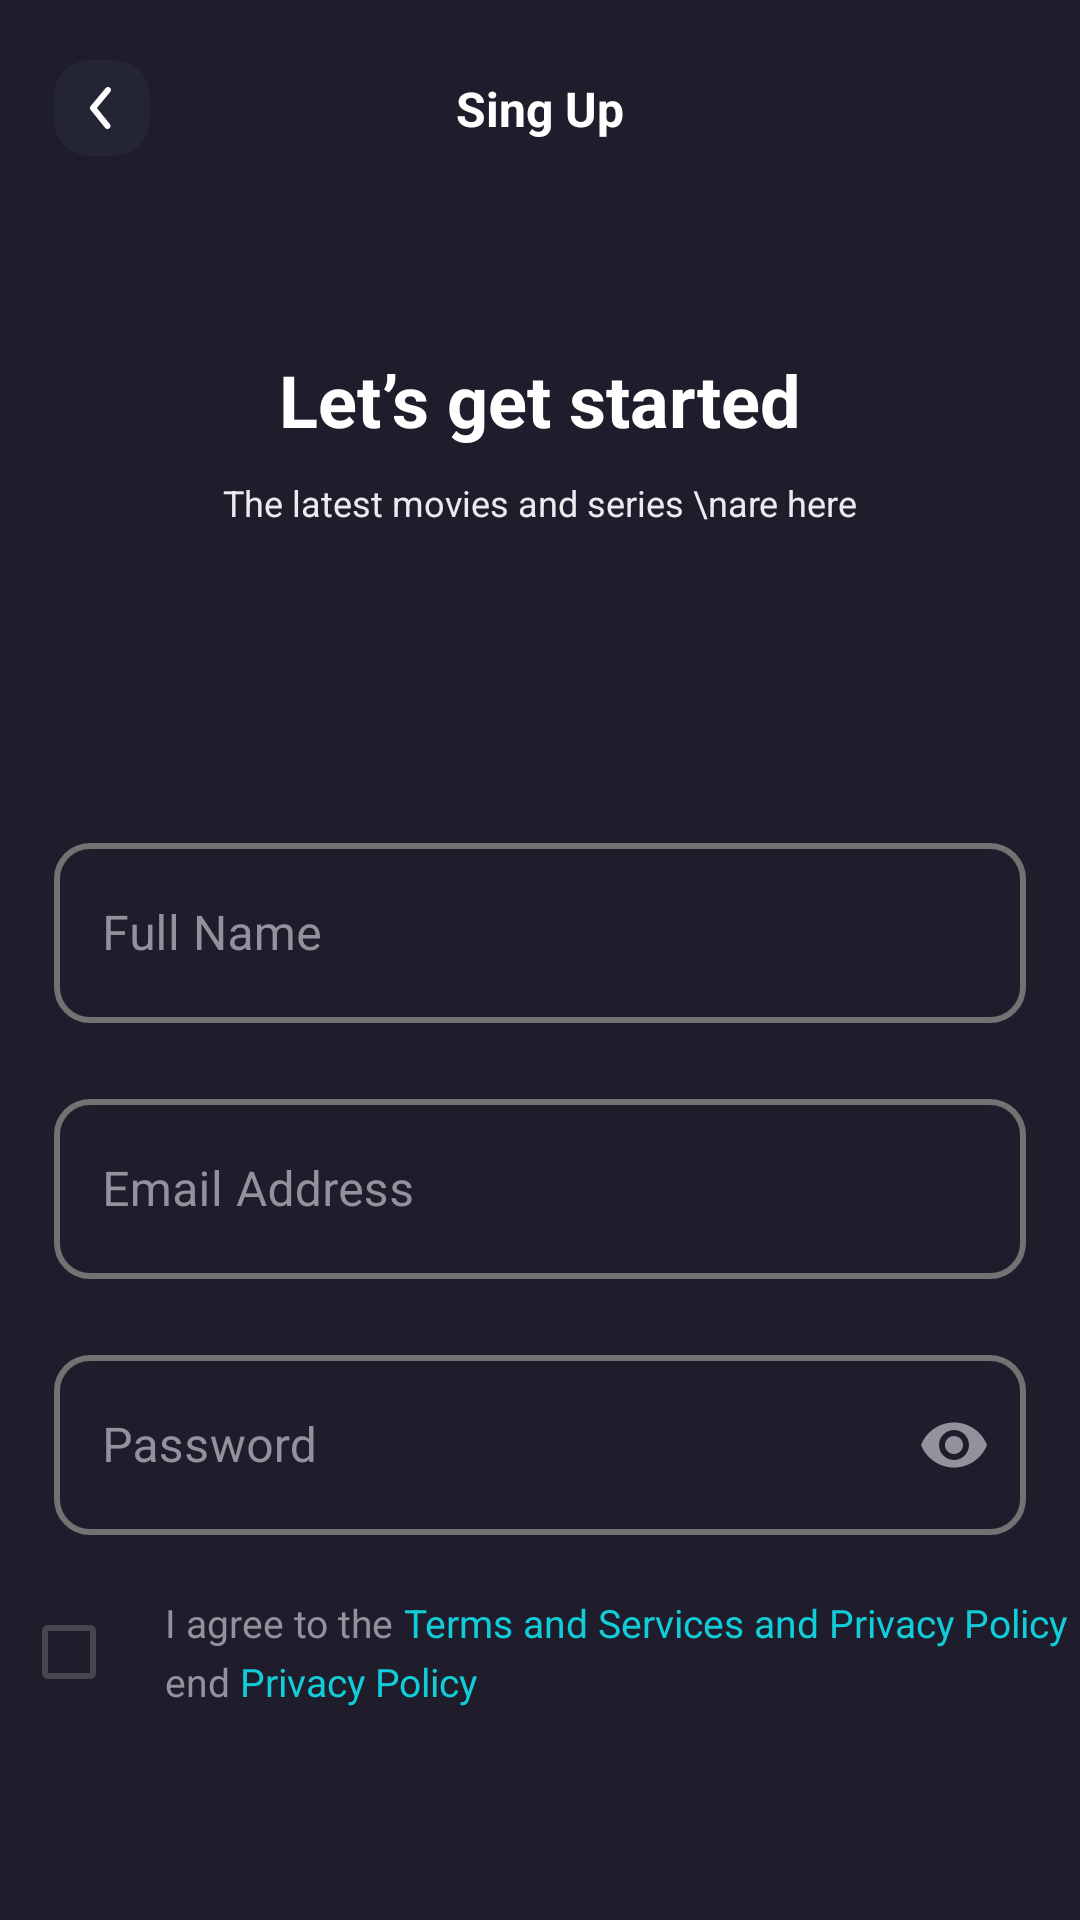

Locate icon controls on the screen. Image size 1080*1920, boxes as (x1, y1, x2, y2).
back: (90, 87, 111, 129)
